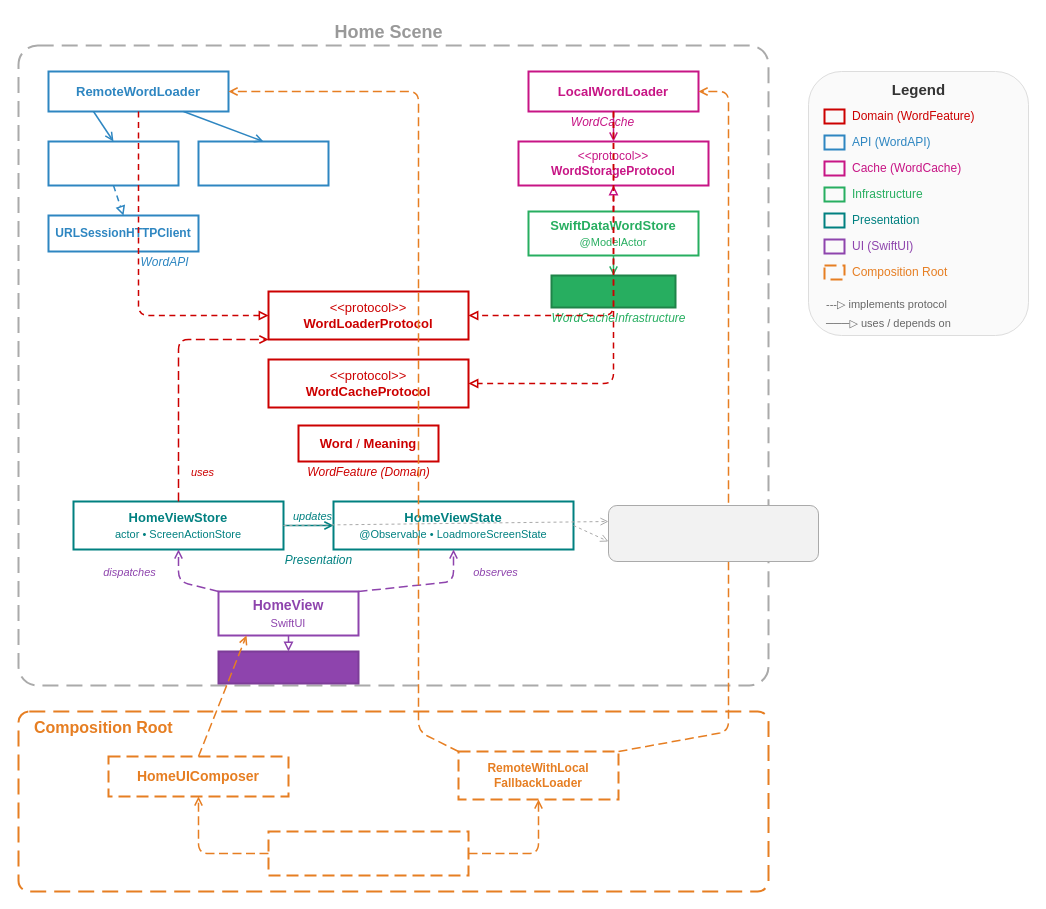
This 1046x909 diagram has some shape labels left out. The shapes that lost their labels are listed below. From the top down, each one's box as (x1, y1, x2, y2) in pixels, then its label:
(47, 140, 179, 186): <<protocol>> HTTPClient
(197, 140, 329, 186): Mappers Definition / Random
(550, 274, 676, 308): SwiftData
(608, 504, 818, 562): ScreenStateKit ScreenState • ScreenActionStore ActionLocker • LoadingTrackable
(217, 650, 359, 684): SwiftUI
(267, 830, 469, 876): DefineryApp @main SwiftUI App
